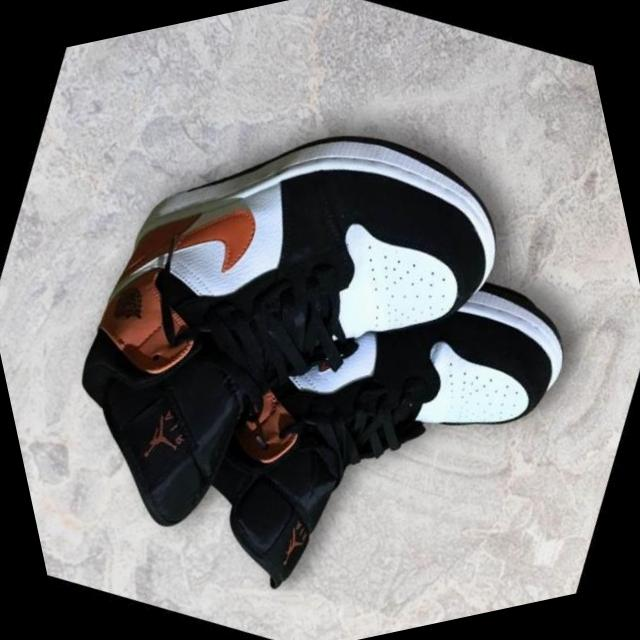nike_fake_jordan: (0, 6, 600, 640), (50, 131, 639, 640)
